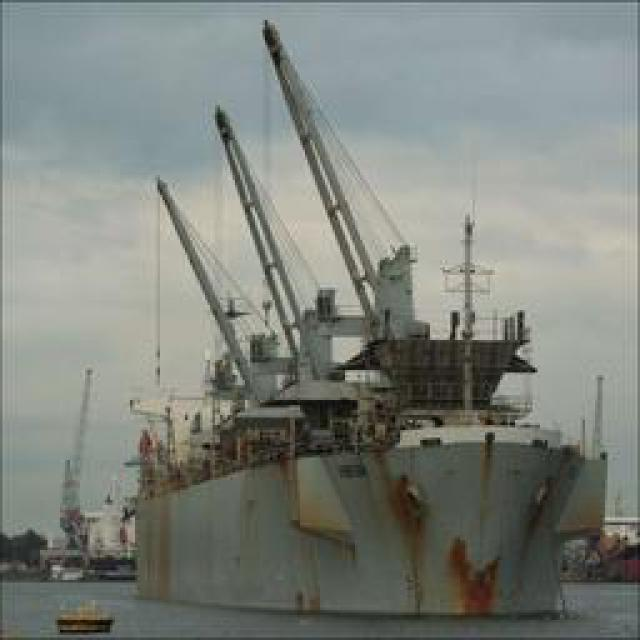Ship: (140, 30, 573, 598)
